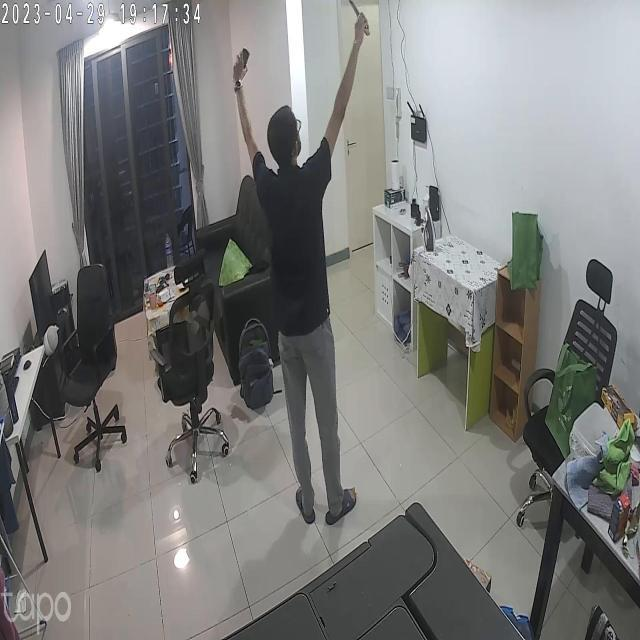Knife: (344, 3, 378, 44)
